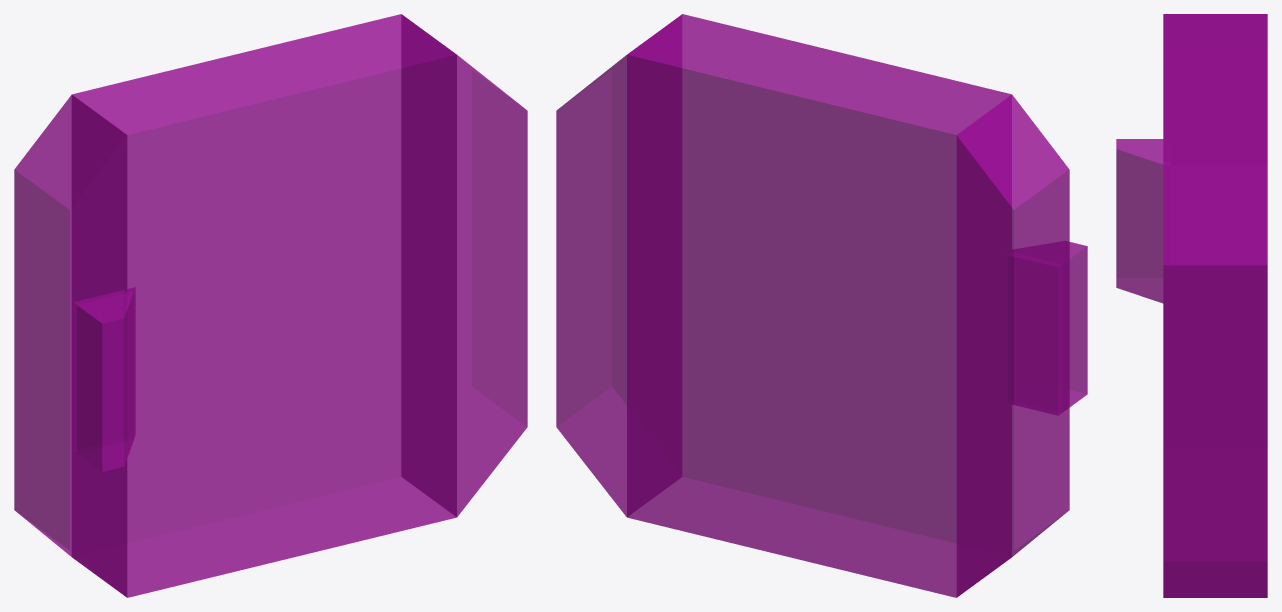
The model's file is SM_Bld_Airlock_01_Door_01_Collision.fbx.
The picture shows the model from 3 angles, left to right: view 1: azimuth 30°, elevation 25°; view 2: azimuth 150°, elevation 25°; view 3: azimuth 270°, elevation 25°; orthographic projection. The views are drawn at different scales.
Parts seen in each view (by area): view 1: SM_Bld_Airlock_01_Door_01_Collision; view 2: SM_Bld_Airlock_01_Door_01_Collision; view 3: SM_Bld_Airlock_01_Door_01_Collision.
Boxes of the visible parts, x1,y1,x2,y2 form: SM_Bld_Airlock_01_Door_01_Collision: (14,14,527,597); SM_Bld_Airlock_01_Door_01_Collision: (556,14,1087,597); SM_Bld_Airlock_01_Door_01_Collision: (1116,14,1267,597).
Size of the model in its own units: 216 by 208 by 65.88.
